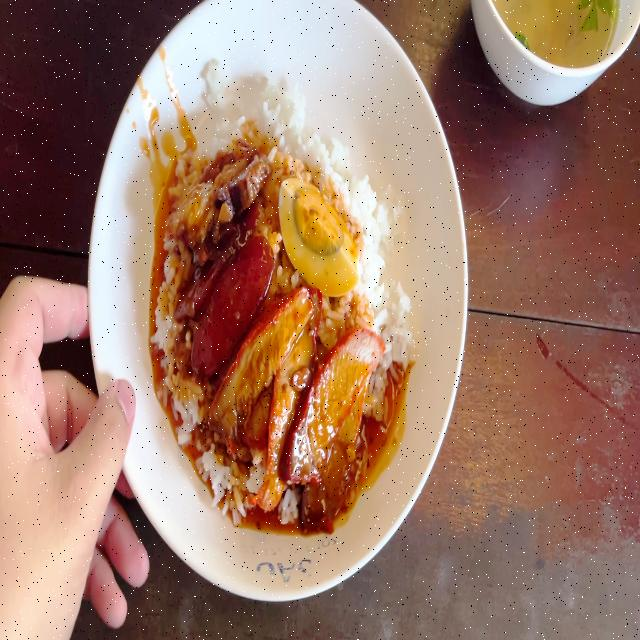boiled_egg: (282, 181, 358, 291)
crispy_pork: (185, 234, 264, 358), (179, 156, 253, 233)
red_pork: (262, 333, 384, 483), (250, 299, 308, 448)
red_pork_and_crispy_pork: (161, 92, 410, 514)
rice: (201, 76, 310, 153), (358, 192, 411, 347)
